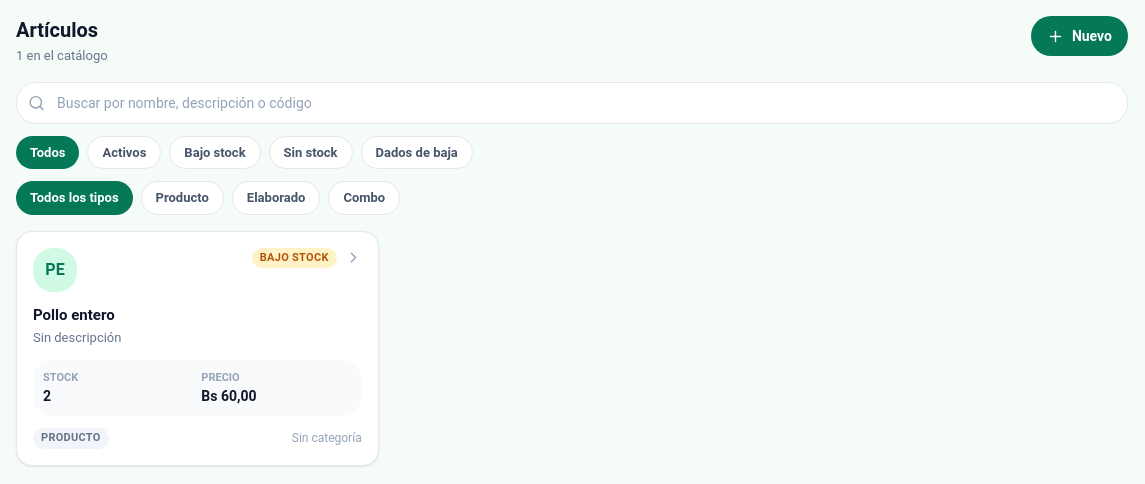
Test: bamardev-restaurant: el catálogo se ve como siempre › buscar algo que no está dice 'Sin resultados'
Expected: the heading "Pollo entero" is shown, [33, 306, 115, 324]
In the field with placeholder "Buscar por nombre, descripción o código": [572, 102] box [16, 82, 1128, 124], type "zzz"
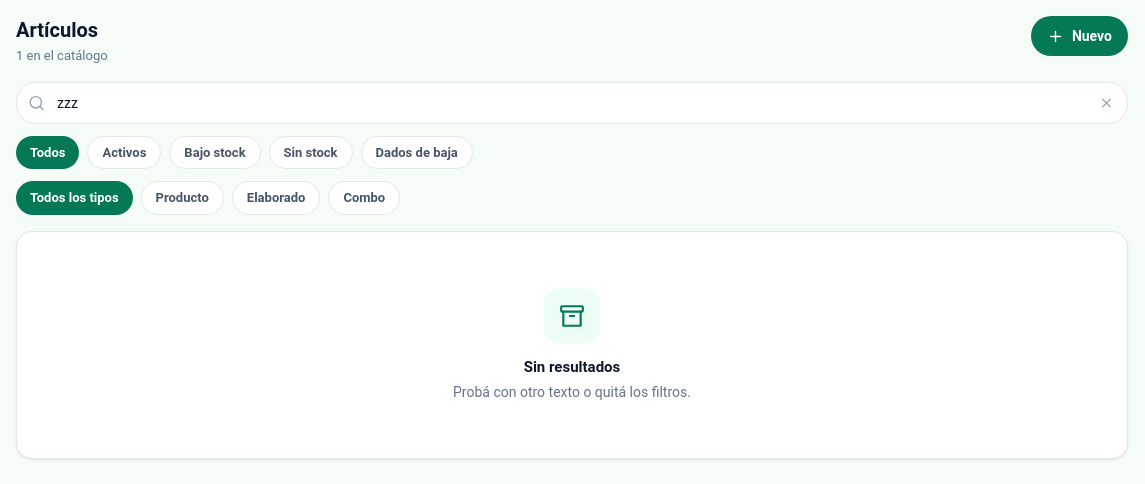
Expected: the heading "Sin resultados" is shown, [524, 356, 620, 378]
Expected: the text "Probá con otro texto o quitá los filtros." is shown, [453, 382, 691, 402]
